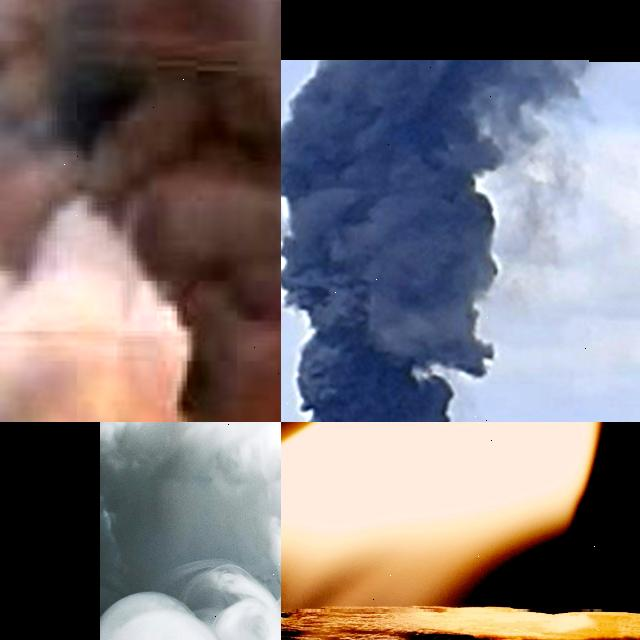fire: (281, 422, 601, 610)
smoke: (0, 0, 281, 422), (281, 61, 589, 422), (99, 422, 281, 620)
